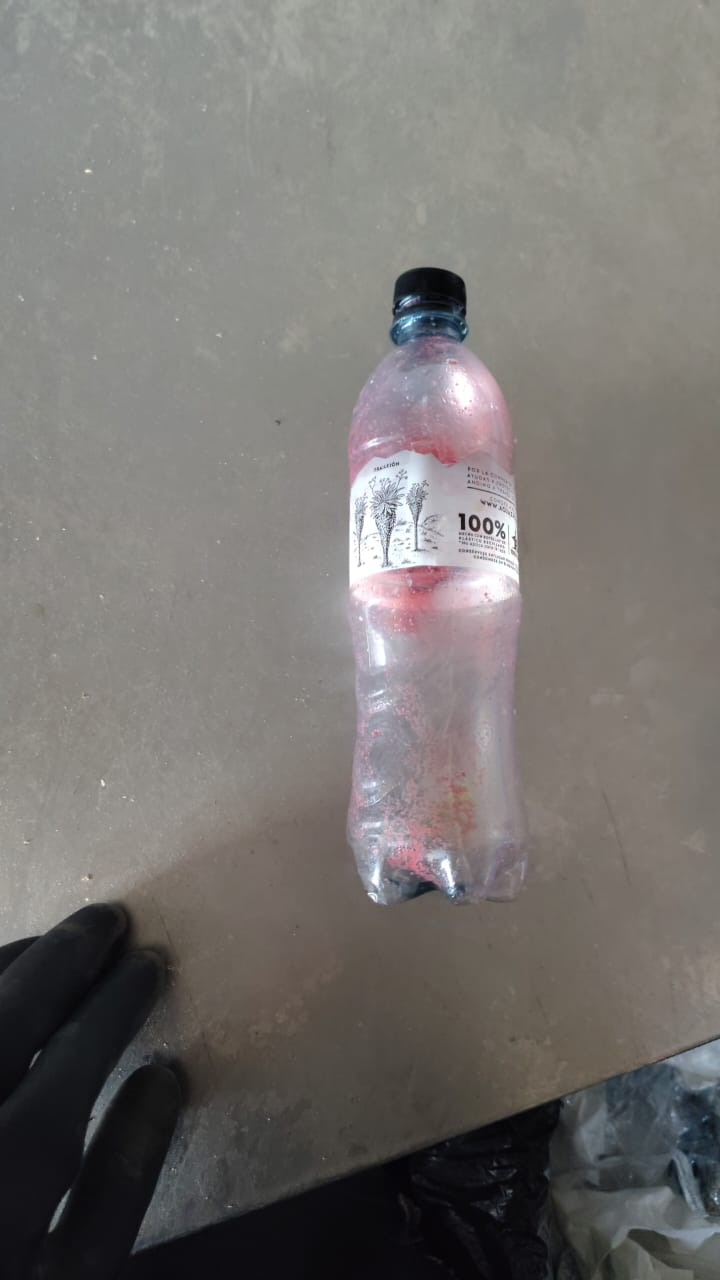Plastico: (343, 264, 537, 909)
